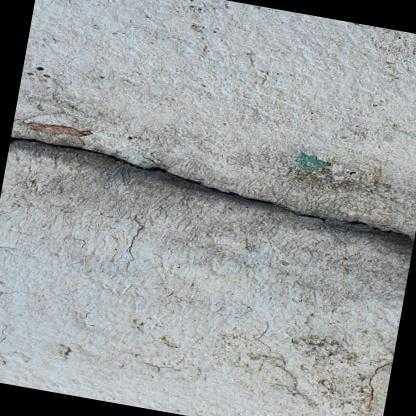crack: (8, 134, 414, 245)
